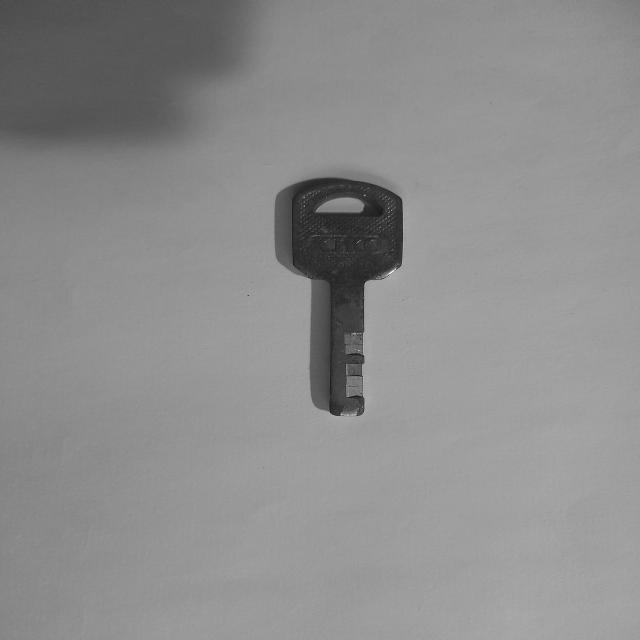key: (292, 180, 403, 416)
